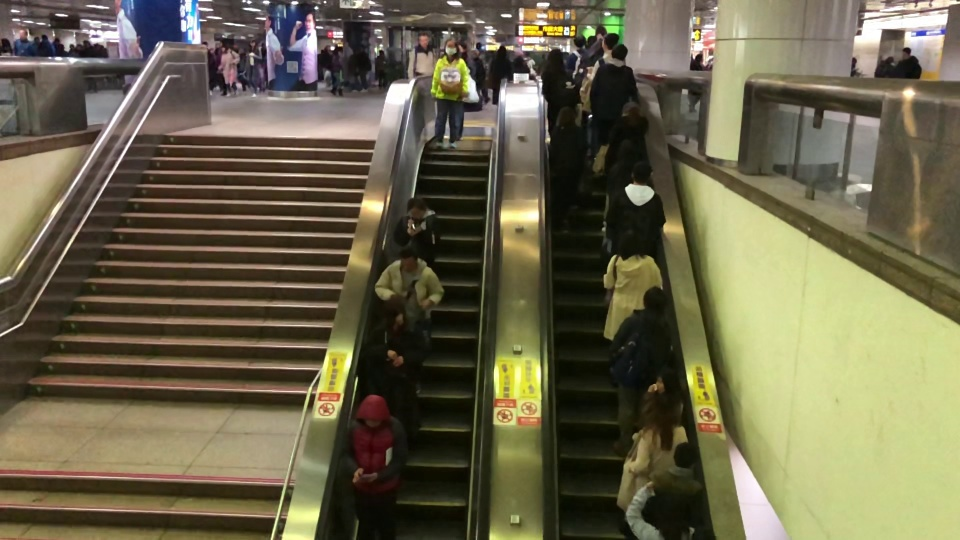person_head: (646, 397, 686, 434), (616, 224, 655, 257), (354, 393, 390, 428), (377, 304, 406, 330), (642, 286, 668, 314), (402, 193, 429, 219), (631, 162, 654, 188), (651, 376, 677, 399), (673, 443, 695, 469), (555, 107, 576, 131), (616, 102, 642, 120), (397, 247, 418, 269), (609, 45, 629, 64), (602, 32, 619, 50), (444, 40, 460, 59), (548, 48, 563, 61), (417, 34, 431, 47), (572, 34, 586, 47), (494, 46, 509, 58), (594, 26, 607, 38), (900, 47, 913, 58), (17, 30, 28, 42), (882, 54, 895, 64), (0, 37, 11, 48), (513, 56, 526, 65), (693, 53, 703, 64), (850, 57, 859, 69), (249, 40, 258, 49), (221, 45, 229, 53), (41, 35, 49, 42), (378, 49, 385, 57)
person_vbox: (606, 286, 688, 455), (615, 398, 694, 528), (617, 443, 714, 540), (344, 393, 408, 527), (603, 223, 667, 341), (367, 303, 424, 417), (374, 246, 446, 327), (429, 38, 480, 148), (607, 162, 667, 255), (620, 370, 690, 444), (603, 101, 655, 197), (552, 107, 588, 236), (596, 44, 640, 143), (391, 193, 441, 267), (592, 32, 633, 94), (538, 48, 568, 131), (577, 25, 609, 89), (405, 33, 437, 79), (684, 52, 708, 113), (489, 45, 511, 106), (219, 45, 240, 96), (894, 46, 923, 82), (247, 41, 263, 100), (567, 34, 586, 80), (872, 54, 898, 78), (374, 48, 389, 88), (511, 55, 531, 78), (17, 31, 31, 56), (848, 54, 862, 78), (39, 36, 54, 57), (0, 39, 14, 57)
